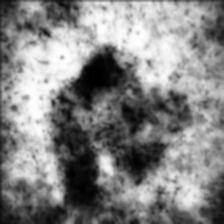Potentially Malignant Skin Tumors: (74, 52, 124, 106)
